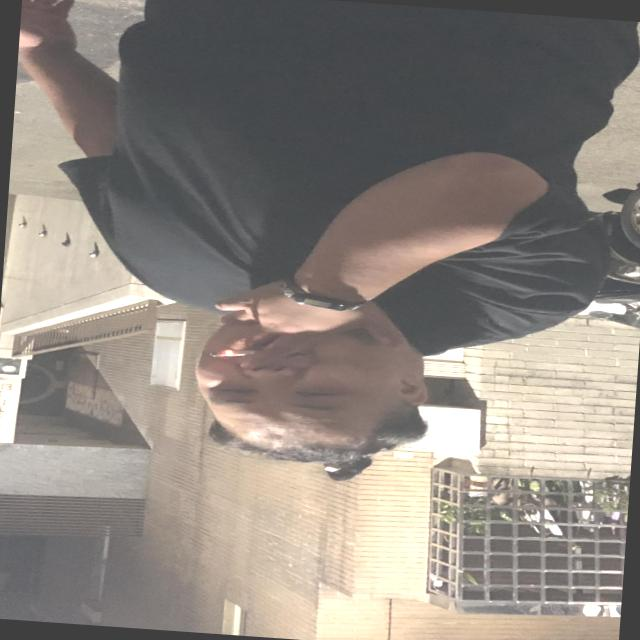smoke: (184, 328, 294, 369)
